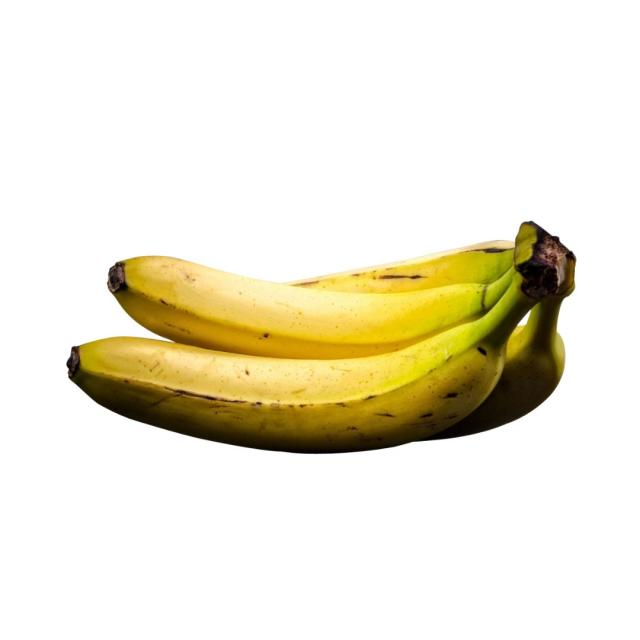Pisang: (61, 224, 577, 452)
